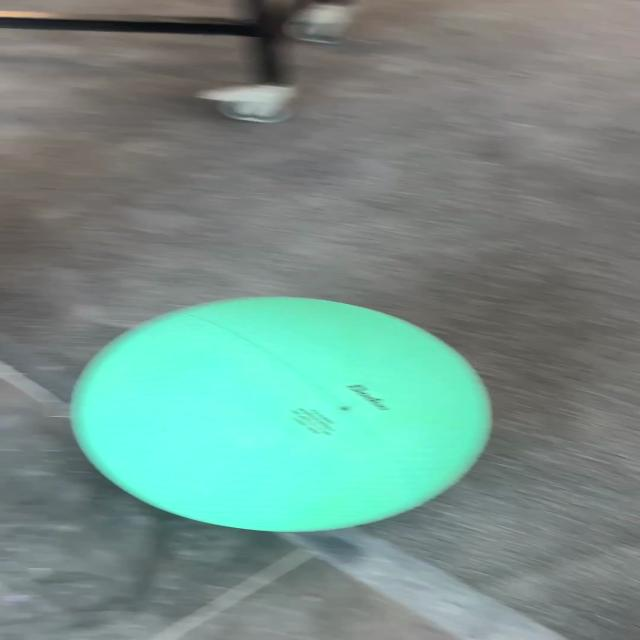Algae: (68, 295, 494, 533)
